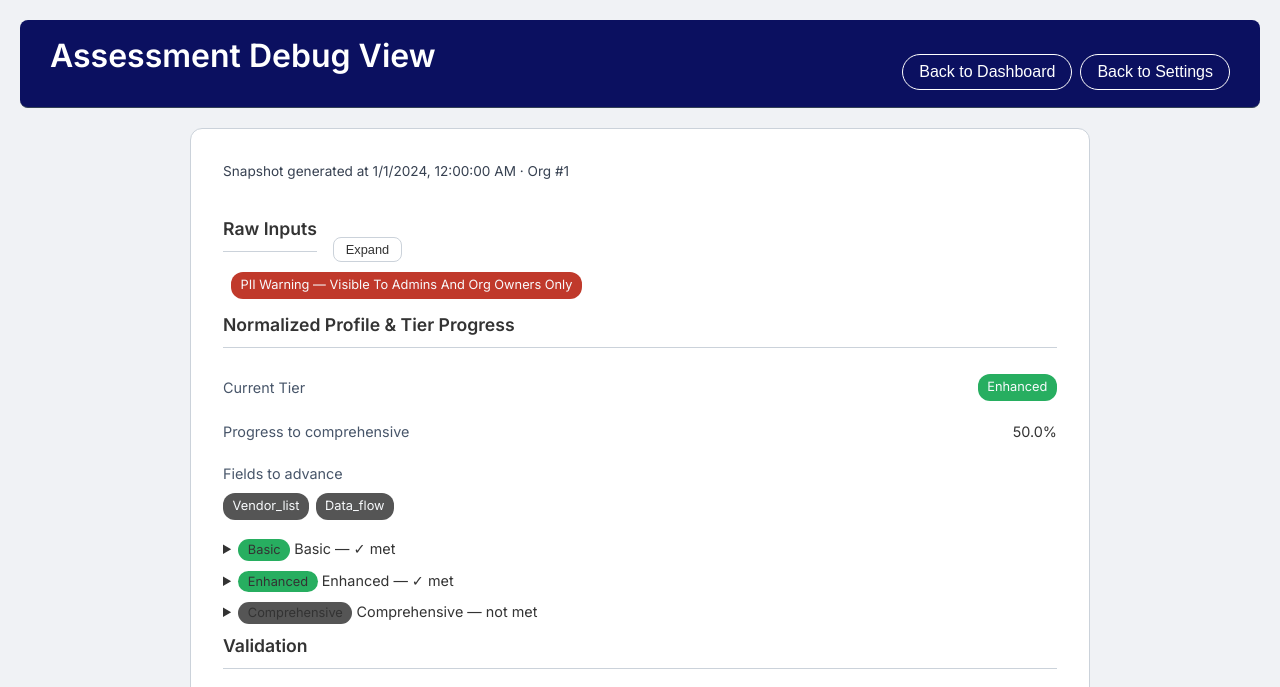
Test case: AssessmentDebugPage › Tier Status Display › shows met requirements with checkmark
Expected: the heading "basic Basic — ✓ met" is shown, [238, 539, 395, 561]
Click the heading "enhanced Enhanced — ✓ met".
click(346, 581)  # box [238, 571, 454, 592]
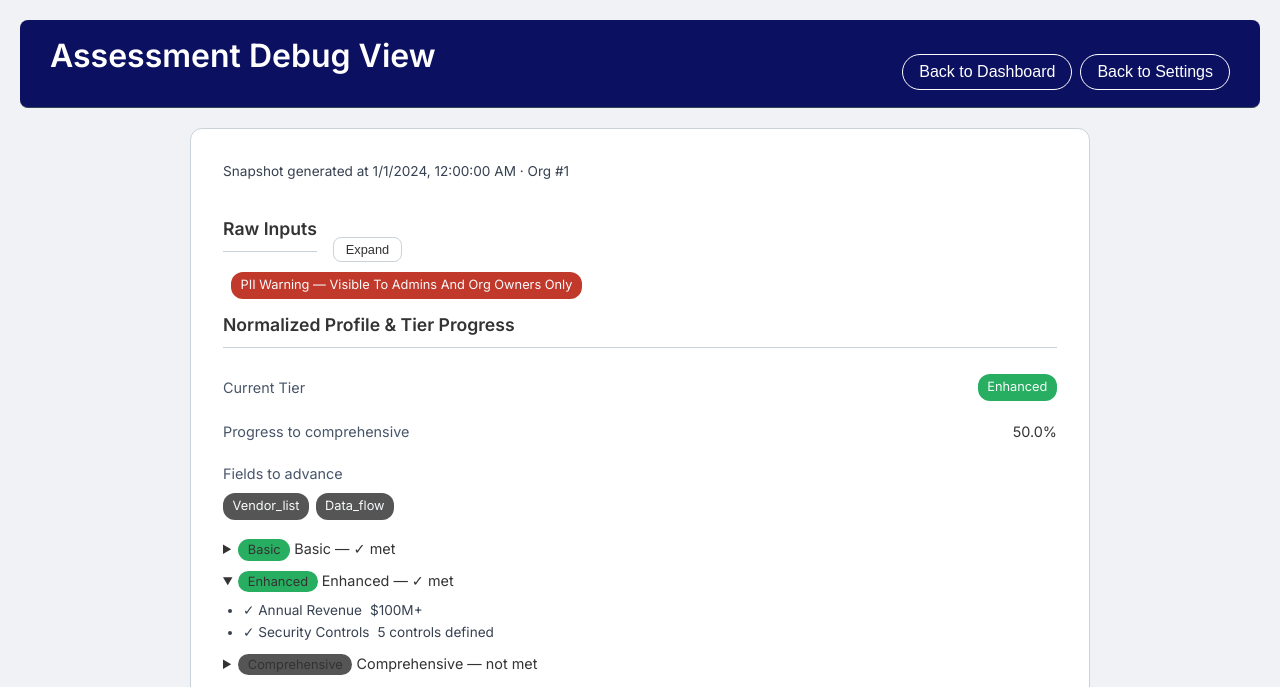
Now the list item "✓ Annual Revenue$100M+" is shown, box [243, 602, 423, 618]
